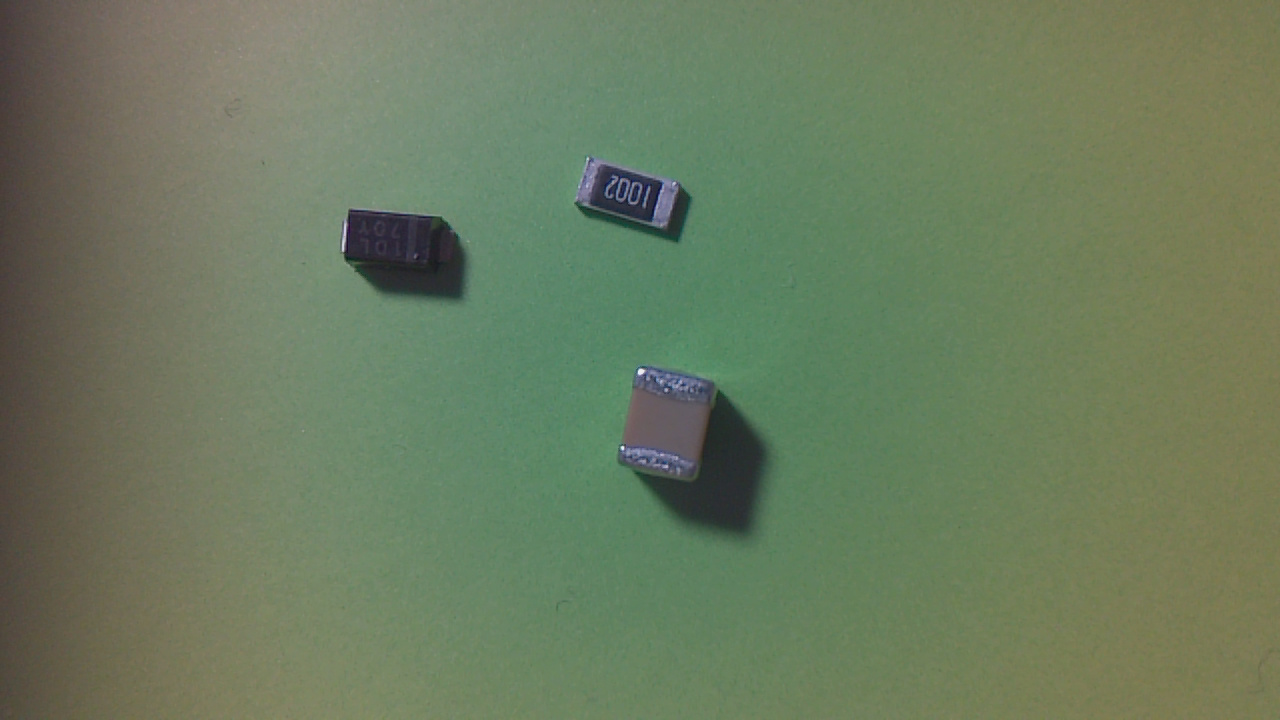Condensator: (621, 369, 724, 489)
Diode: (342, 212, 467, 284)
Resistor: (577, 159, 697, 240)
